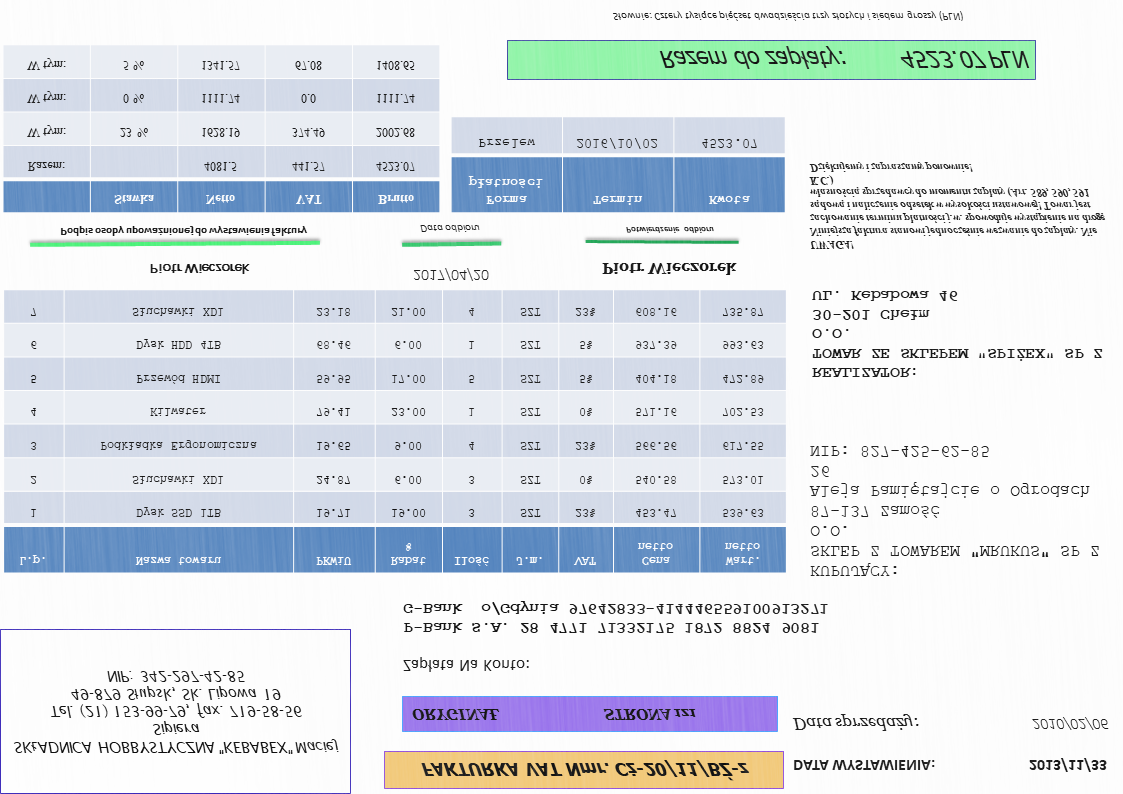Table: (1, 288, 788, 576), (1, 43, 441, 215), (449, 116, 787, 216)
TextBox: (806, 439, 1105, 582), (10, 665, 343, 759), (805, 157, 1111, 255), (809, 285, 1107, 382), (400, 597, 833, 638), (655, 47, 1032, 74), (418, 756, 755, 784), (409, 705, 698, 727), (608, 9, 966, 25), (57, 222, 309, 240), (790, 711, 924, 737), (400, 655, 534, 676), (791, 756, 937, 775), (599, 260, 738, 278), (144, 260, 255, 278), (410, 264, 490, 285), (1025, 755, 1112, 774), (1027, 715, 1112, 733), (623, 223, 715, 237), (416, 221, 481, 237)
